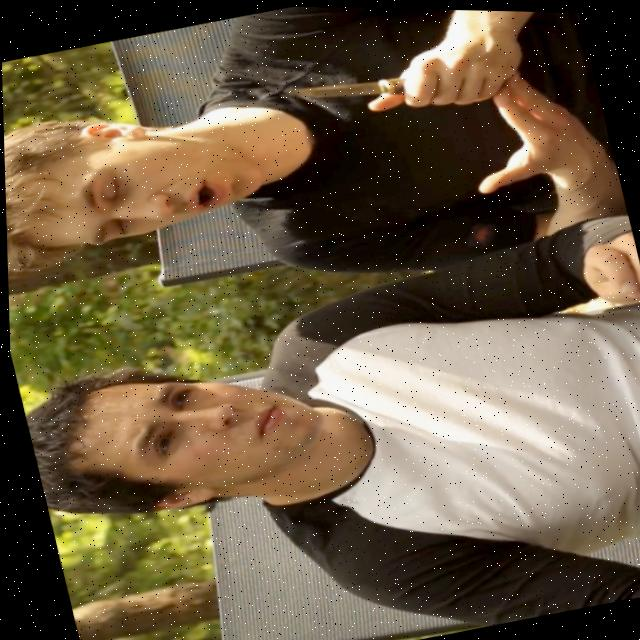knife: (279, 62, 407, 115)
